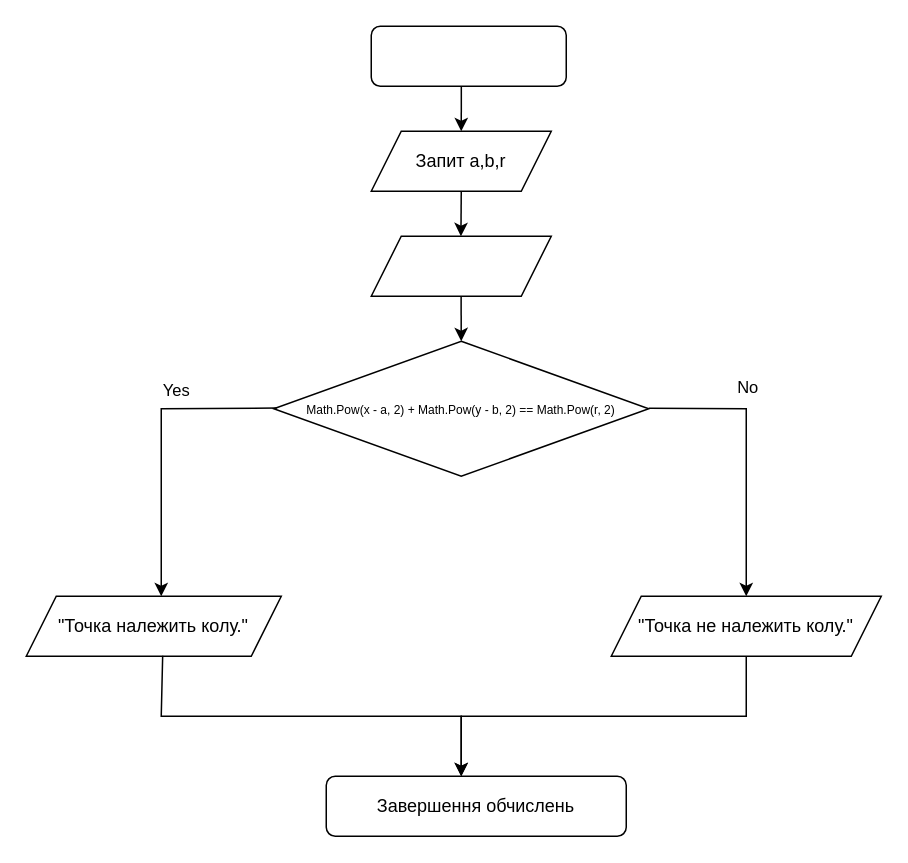
Some shapes in this 908 by 863 pixel diagram are drawn without their labels. The centre of each missing label's shape, as x and y in pixels:
"Запит x,y" goes at point (460, 265).
"Початок обчислень" goes at point (468, 55).
